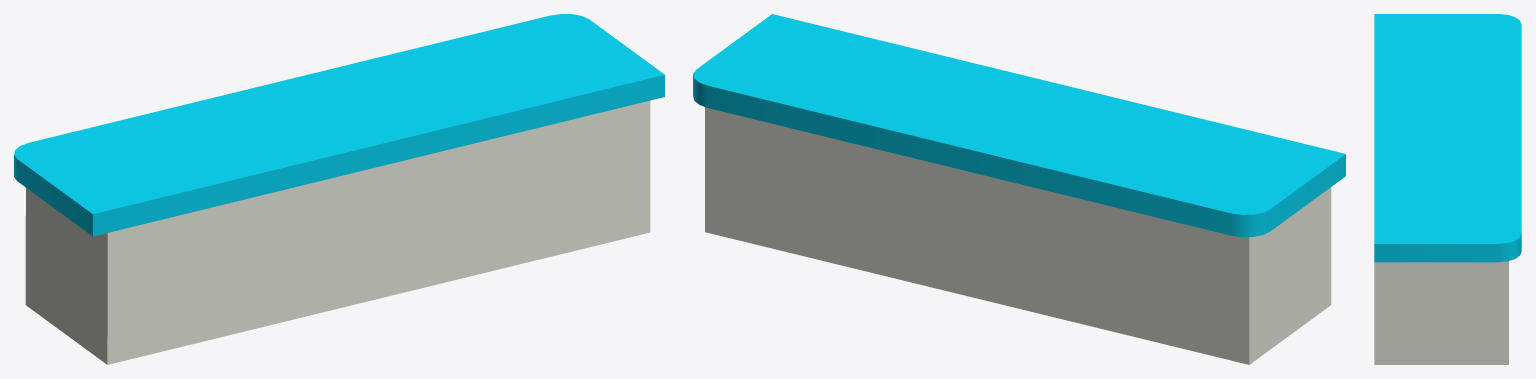
The model's file is TableB3_geo.fbx.
The picture shows the model from 3 angles, left to right: view 1: azimuth 30°, elevation 25°; view 2: azimuth 150°, elevation 25°; view 3: azimuth 270°, elevation 25°; orthographic projection. The views are drawn at different scales.
Parts seen in each view (by area): view 1: TableB3_geo; view 2: TableB3_geo; view 3: TableB3_geo.
Part boxes in pixels (<box>): TableB3_geo: <box>14,14,664,364</box>; TableB3_geo: <box>693,14,1345,364</box>; TableB3_geo: <box>1374,14,1521,364</box>.
Bounding box in the file's own units: 2.64 × 0.7143 × 0.6803.
